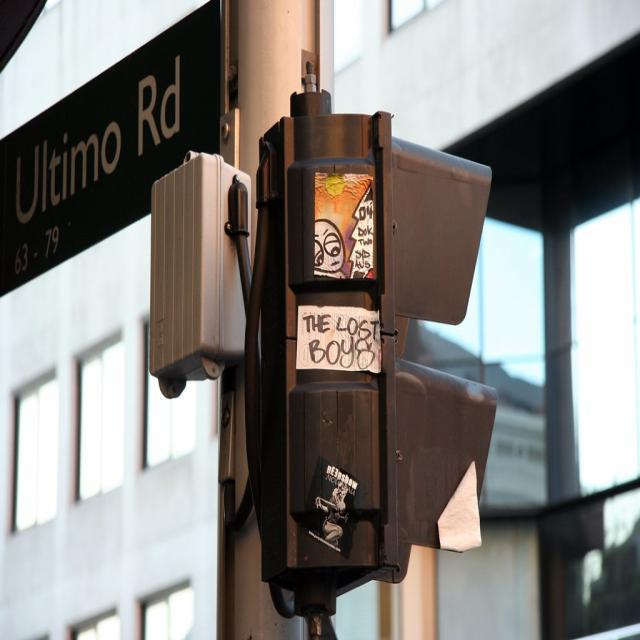off traffic light: (265, 102, 499, 578)
